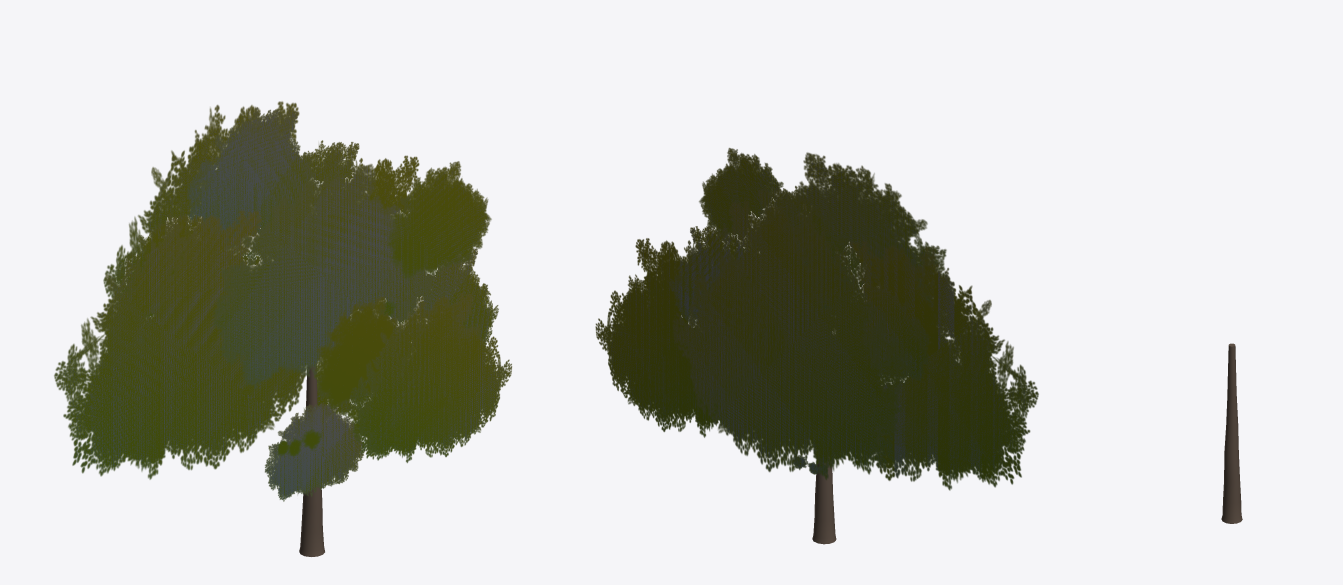
The model's file is tree_medium_broad_clustered_canopy_lod1.glb.
3 renders of one model, left to right at view 1: azimuth 30°, elevation 25°; view 2: azimuth 150°, elevation 25°; view 3: azimuth 270°, elevation 25°, orthographic. The views are drawn at different scales.
Parts seen in each view (by area): view 1: TreeHLOD1_Foliage, Camphor_Trunk_Stylized; view 2: TreeHLOD1_Foliage, Camphor_Trunk_Stylized; view 3: Camphor_Trunk_Stylized.
Boxes of the visible parts, box(x1,y1,x2,y2) form: TreeHLOD1_Foliage: box(54, 101, 511, 501); Camphor_Trunk_Stylized: box(299, 365, 324, 556); TreeHLOD1_Foliage: box(595, 148, 1038, 490); Camphor_Trunk_Stylized: box(812, 457, 836, 544); Camphor_Trunk_Stylized: box(1221, 343, 1242, 523).
Bounding box in the file's own units: 16.32 × 15.52 × 7.46.
Materials: 2 (1 with a texture image).
